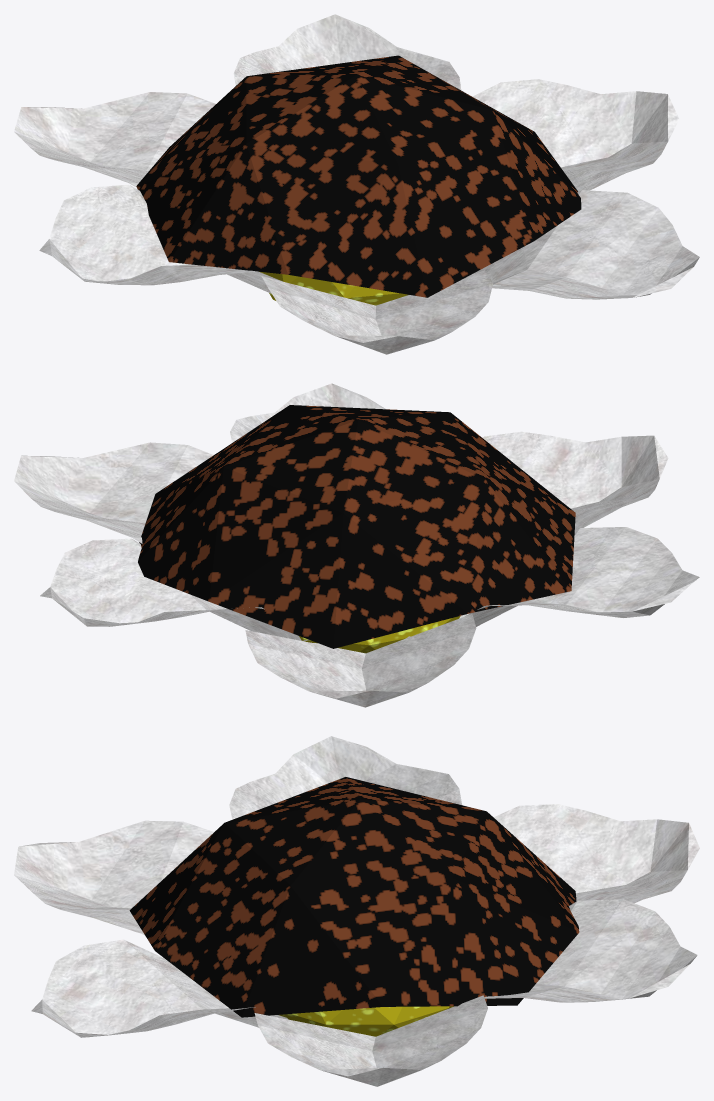
Rendered from bramble.dae.
The picture shows the model from 3 angles, top to bottom: view 1: azimuth 30°, elevation 25°; view 2: azimuth 150°, elevation 25°; view 3: azimuth 270°, elevation 25°; orthographic projection.
Parts seen in each view (by area): view 1: stamen, petal, carpel; view 2: stamen, petal, carpel; view 3: stamen, petal, carpel.
Part boxes in pixels (x1,y1,x2,y2): stamen: (136, 55, 581, 297); petal: (14, 14, 699, 354); carpel: (259, 271, 408, 305); stamen: (138, 405, 575, 648); petal: (14, 383, 699, 707); carpel: (299, 616, 460, 653); stamen: (129, 777, 579, 1017); petal: (14, 736, 699, 1086); carpel: (279, 1006, 453, 1036).
Size of the model in its own units: 0.1716 by 0.1561 by 0.0605.
